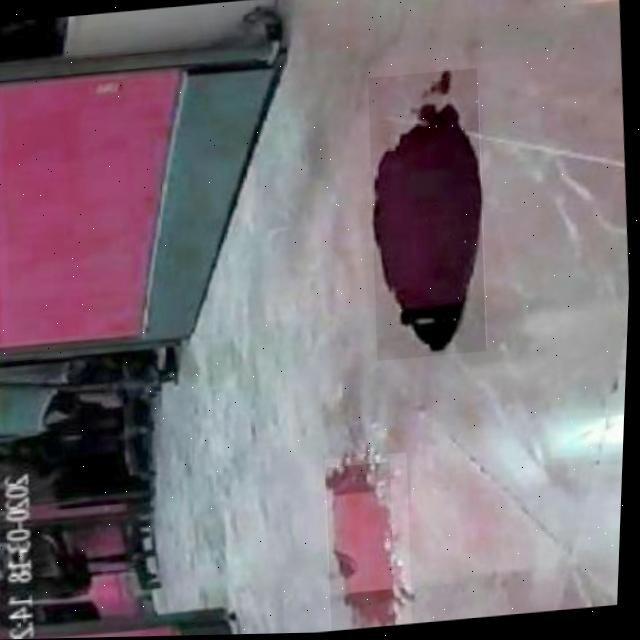spillage: (374, 72, 483, 357), (375, 102, 484, 353), (329, 457, 415, 628), (331, 465, 399, 627)
